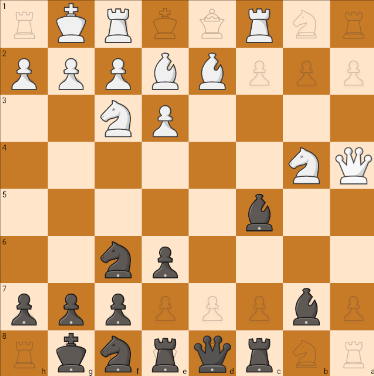bb: (236, 191, 282, 233), (286, 286, 327, 330)
bk: (49, 332, 93, 374)
bn: (95, 331, 141, 376), (97, 236, 138, 283)
bp: (99, 287, 139, 328), (143, 241, 185, 280), (4, 286, 42, 329), (52, 288, 90, 327)
bq: (191, 332, 235, 373)
br: (144, 332, 186, 373), (243, 335, 279, 372)
wb: (192, 52, 232, 94), (146, 49, 184, 92)
wk: (49, 1, 95, 47)
wn: (285, 141, 323, 186), (99, 98, 136, 139)
wp: (4, 51, 46, 93), (101, 52, 136, 94), (147, 99, 183, 137), (51, 56, 89, 89)
wq: (333, 143, 374, 187)
wr: (97, 6, 139, 46), (242, 1, 278, 45)
